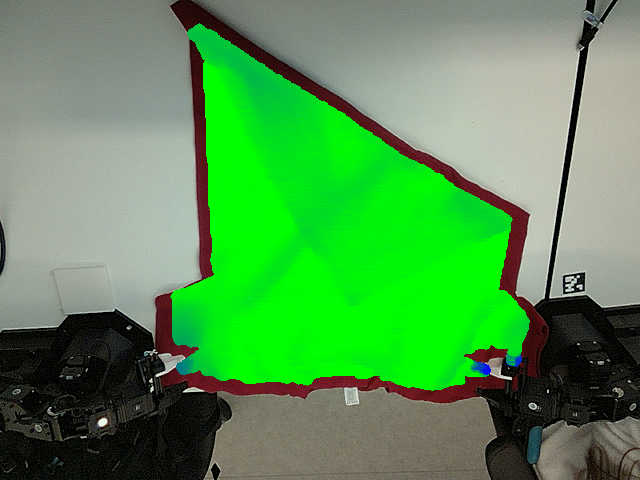V: (324, 267, 382, 314)
